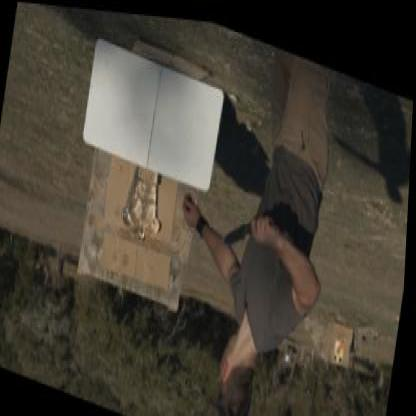knife: (218, 191, 278, 262)
